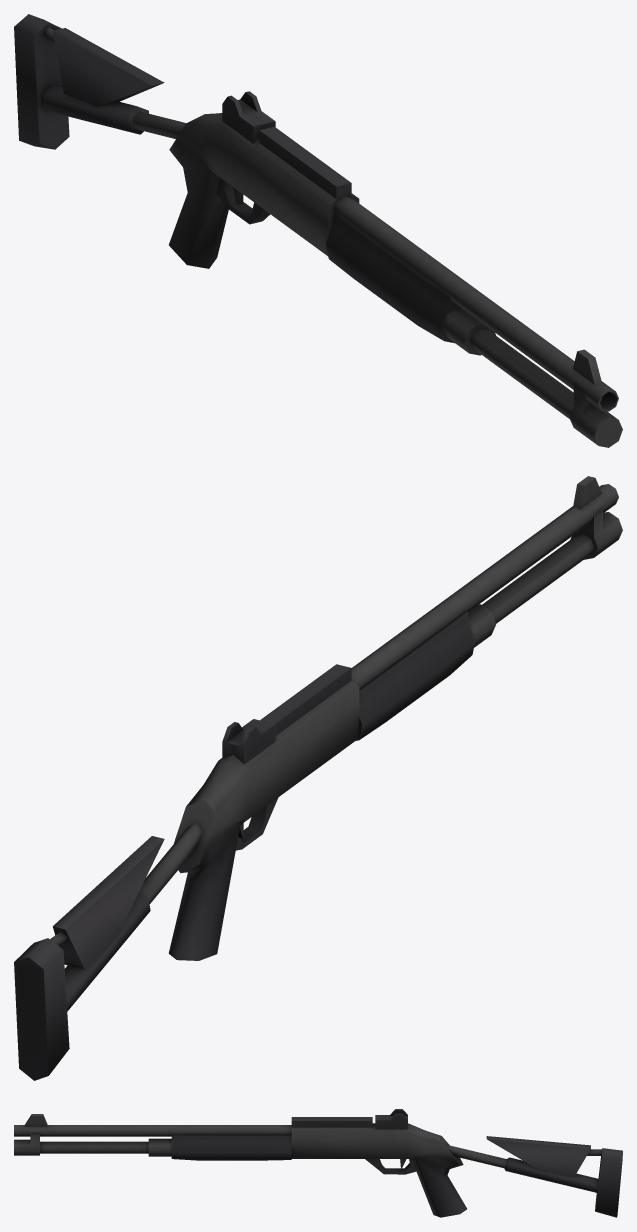
3 views of the same model, one above another, from view 1: azimuth 30°, elevation 25°; view 2: azimuth 150°, elevation 25°; view 3: azimuth 270°, elevation 25° (orthographic). The views are drawn at different scales.
Visible parts, largest first — view 1: M1014; view 2: M1014; view 3: M1014.
Part boxes in pixels (x1,y1,x2,y2): M1014: [14, 14, 622, 447]; M1014: [14, 476, 622, 1080]; M1014: [14, 1109, 622, 1217].
Size of the model in its own units: 4.16 by 21.02 by 110.
